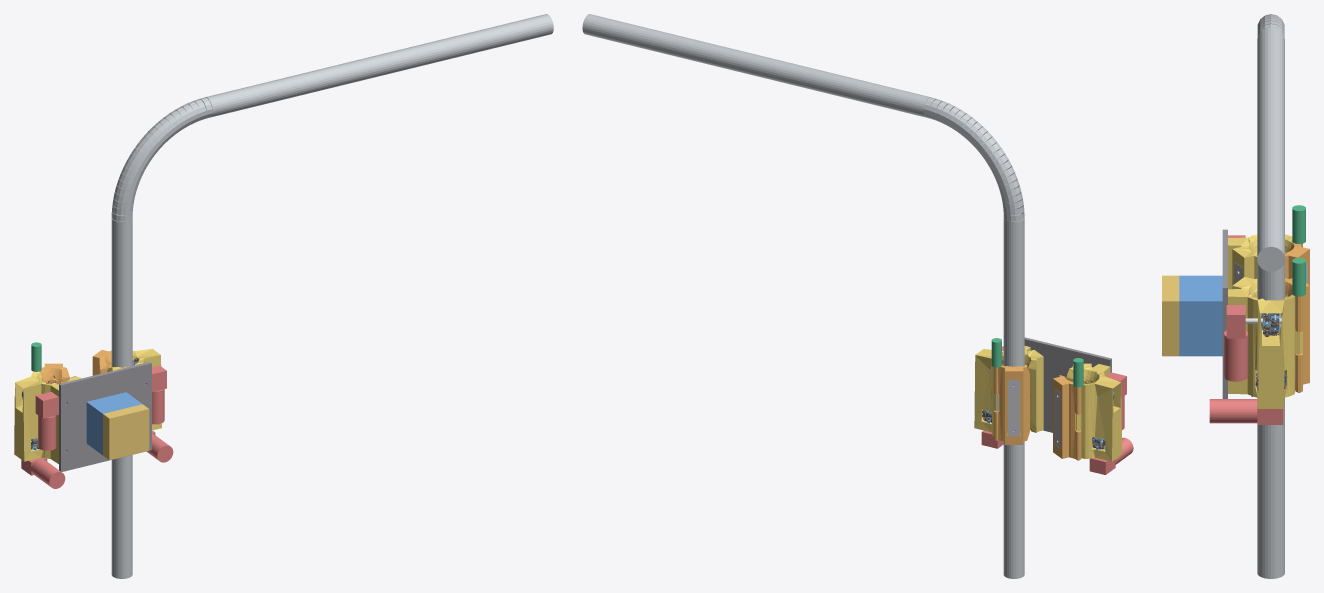
File: sim-cart-on-track-v1.glb
3 renders of one model, left to right at view 1: azimuth 30°, elevation 25°; view 2: azimuth 150°, elevation 25°; view 3: azimuth 270°, elevation 25°, orthographic. The views are drawn at different scales.
Parts seen in each view (by area): view 1: 0, 17, 2, 1, 19, 18, 4; view 2: 0, 1, 4, 17, 2, 7; view 3: 0, 1, 18, 2, 4, 19, 11, 17, 13, 12.
Part boxes in pixels (x1=…): 0: x1=111, y1=14, x2=553, y2=578; 17: x1=59, y1=362, x2=151, y2=471; 2: x1=21, y1=365, x2=173, y2=488; 1: x1=14, y1=349, x2=161, y2=463; 19: x1=103, y1=404, x2=149, y2=460; 18: x1=86, y1=392, x2=142, y2=455; 4: x1=40, y1=350, x2=111, y2=383; 0: x1=582, y1=14, x2=1024, y2=578; 1: x1=974, y1=346, x2=1121, y2=461; 4: x1=994, y1=364, x2=1088, y2=460; 17: x1=1024, y1=337, x2=1111, y2=432; 2: x1=981, y1=346, x2=1133, y2=474; 7: x1=1008, y1=380, x2=1060, y2=448; 0: x1=1257, y1=14, x2=1284, y2=578; 1: x1=1228, y1=234, x2=1302, y2=408; 18: x1=1179, y1=275, x2=1222, y2=356; 2: x1=1209, y1=235, x2=1283, y2=424; 4: x1=1254, y1=242, x2=1309, y2=392; 19: x1=1162, y1=275, x2=1179, y2=356; 11: x1=1292, y1=205, x2=1305, y2=296; 17: x1=1222, y1=229, x2=1227, y2=398; 13: x1=1256, y1=313, x2=1286, y2=388; 12: x1=1257, y1=313, x2=1285, y2=389.
Size of the model in its own units: 931 by 766 by 171.
